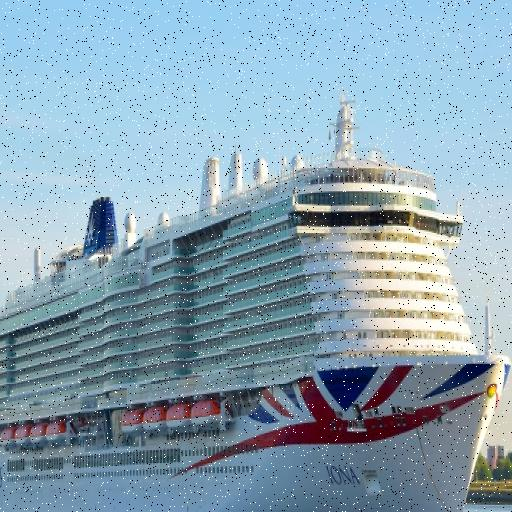cruises: (1, 84, 512, 512)
